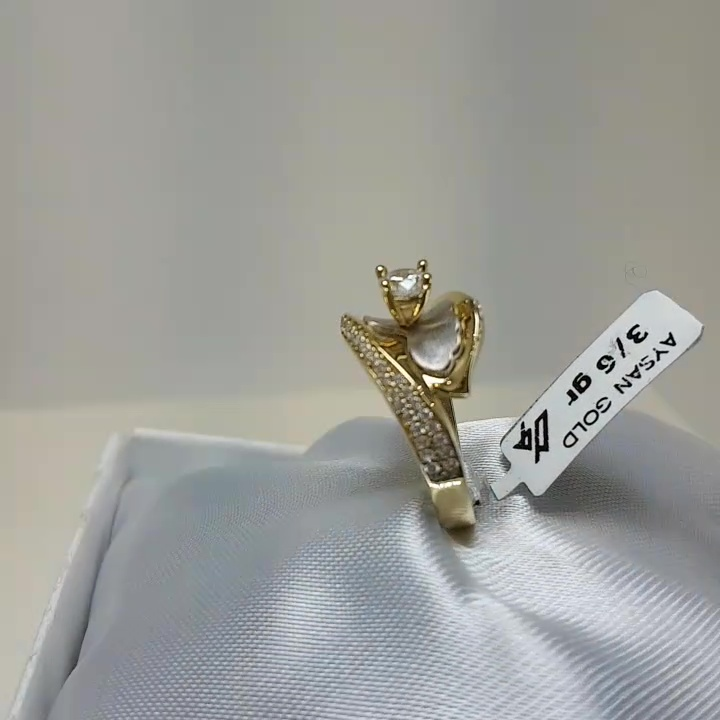Ring 6: (316, 246, 514, 539)
